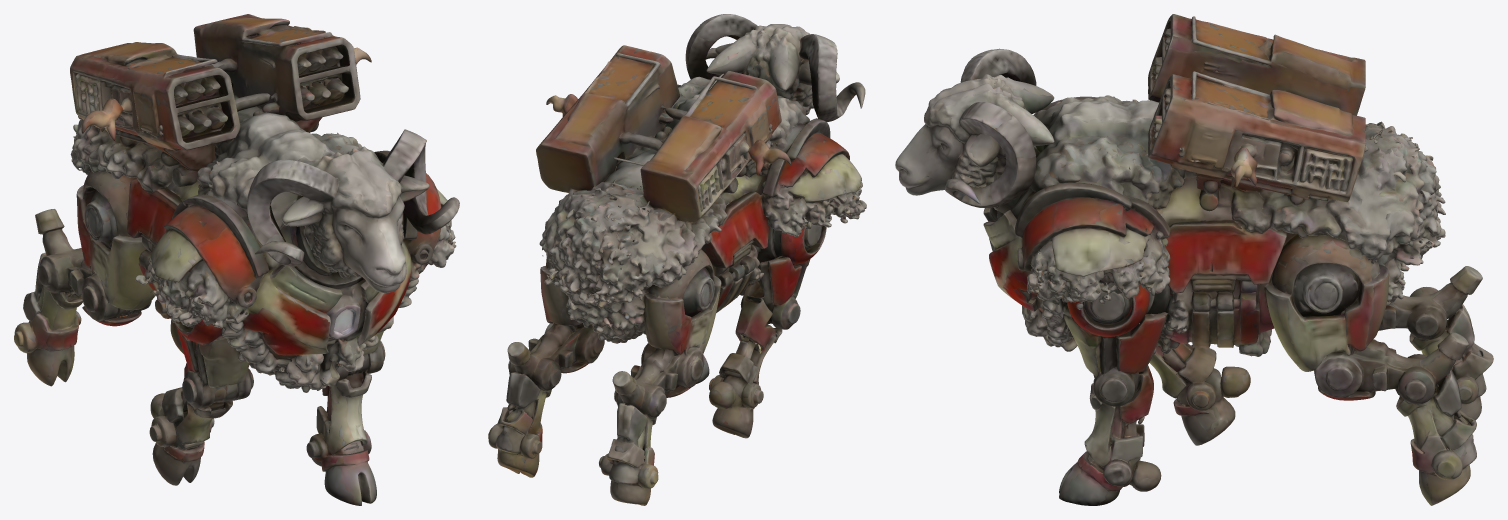
The model's file is trellis-2_glb_2026-09-21_225655298-compressed.glb.
3 renders of one model, left to right at view 1: azimuth 30°, elevation 25°; view 2: azimuth 150°, elevation 25°; view 3: azimuth 270°, elevation 25°, orthographic. The views are drawn at different scales.
Visible parts, largest first — view 1: world; view 2: world; view 3: world.
Part boxes in pixels (x1,y1,x2,y2): world: (14,14,459,505); world: (488,14,866,505); world: (895,14,1493,505).
Size of the model in its own units: 0.5662 by 0.772 by 1.
Materials: 1 (1 with a texture image).
